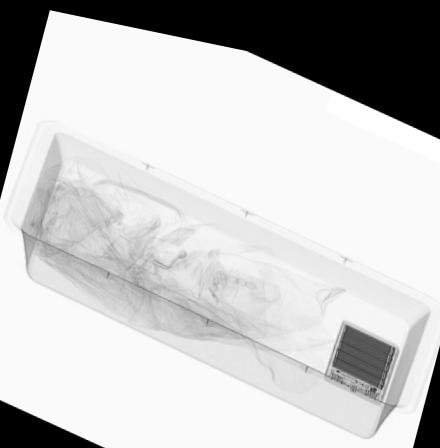Powerbank: (322, 302, 402, 390)
